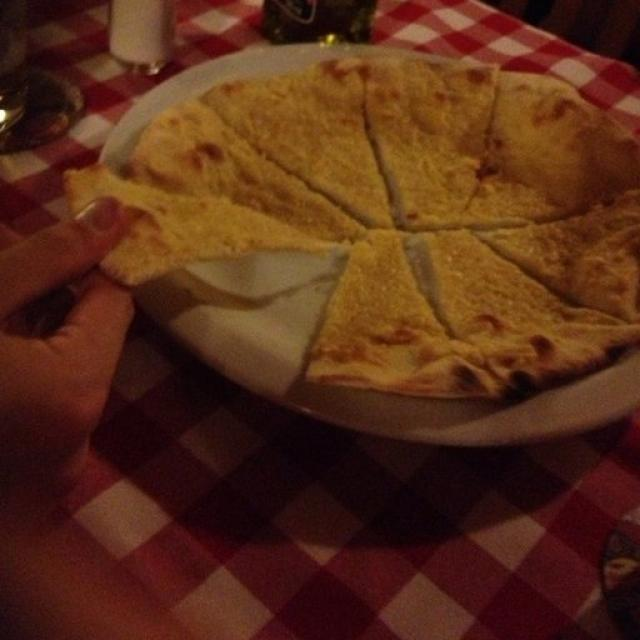Pizza: (65, 51, 640, 393)
